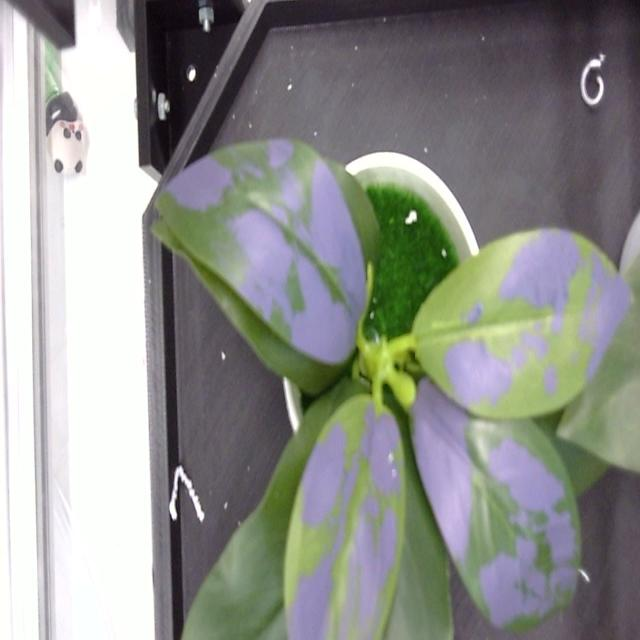Green: (182, 380, 360, 639), (558, 249, 640, 473)
Purple: (153, 139, 379, 394), (412, 229, 634, 419), (413, 380, 580, 628), (288, 404, 404, 639)
